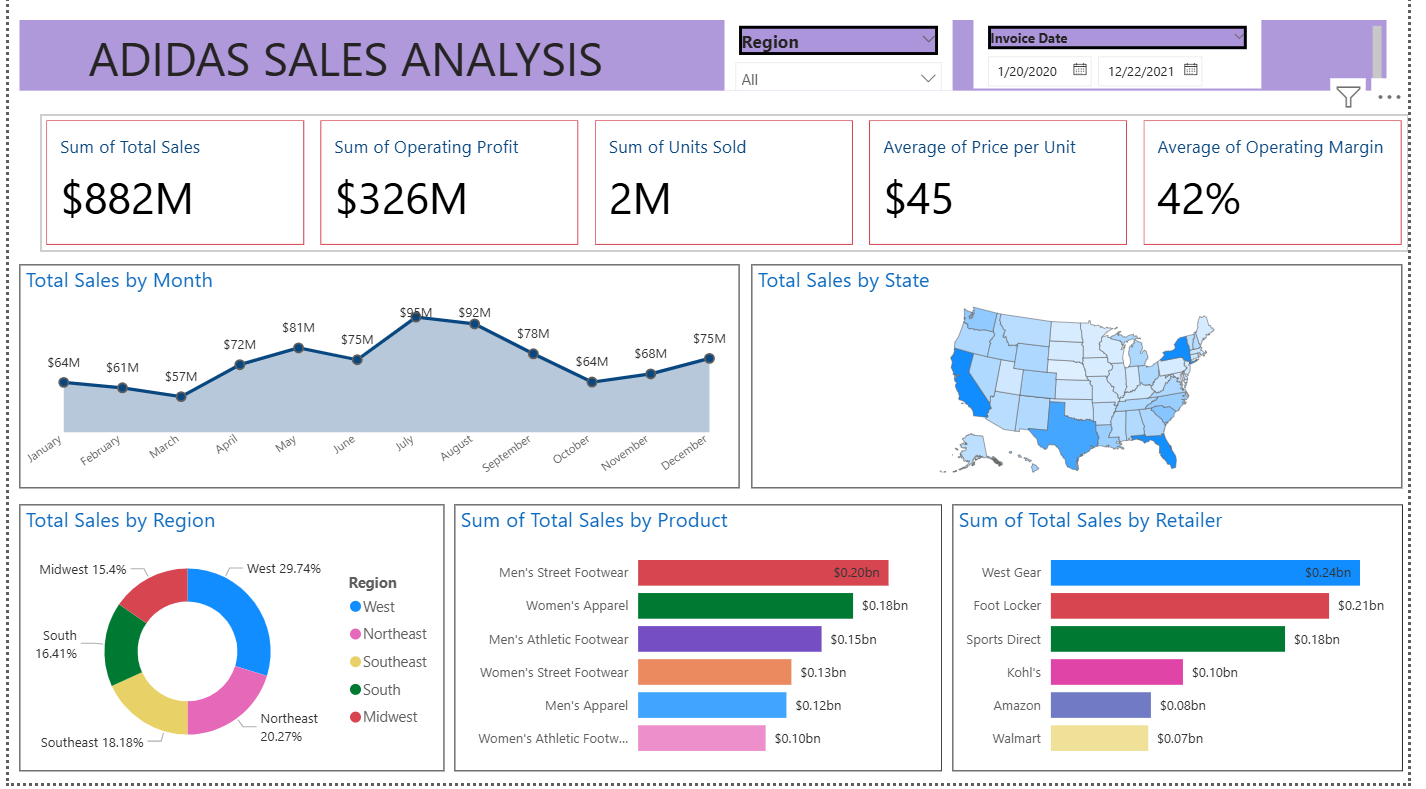

What the dashboard file says about the page in this screenshot:
{"tool":"powerbi","page":{"name":"Page 1","canvas":[1280,720],"ordinal":0},"visuals":[{"type":"textbox","box":[9.6,21.9,1250.7,64.4],"z":0},{"type":"cardVisual","fields":{"Data":["Sum(Data Sales Adidas.Total Sales)","Sum(Data Sales Adidas.Operating Profit)","Sum(Data Sales Adidas.Units Sold)","Avg(Data Sales Adidas.Price per Unit)","Avg(Data Sales Adidas.Operating Margin)"]},"box":[28.8,108.4,1251.6,124.9],"z":1000},{"type":"areaChart","title":"Total Sales by Month","fields":{"Category":["Data Sales Adidas.Invoice Date.Variation.Date Hierarchy.Month"],"Y":["Sum(Data Sales Adidas.Total Sales)"]},"box":[9.6,245.6,658.7,204.5],"z":2000},{"type":"shapeMap","title":" Total Sales by State","fields":{"Category":["Data Sales Adidas.State"],"Value":["Sum(Data Sales Adidas.Total Sales)"]},"box":[679.3,245.6,595.6,204.5],"z":3000},{"type":"donutChart","title":" Total Sales by Region","fields":{"Y":["Sum(Data Sales Adidas.Total Sales)"],"Category":["Data Sales Adidas.Region"]},"box":[9.6,465.2,388.4,244.3],"z":4000},{"type":"barChart","fields":{"Y":["Sum(Data Sales Adidas.Total Sales)"],"Category":["Data Sales Adidas.Product"]},"box":[407.6,465.2,446,244.3],"z":5000},{"type":"barChart","fields":{"Category":["Data Sales Adidas.Retailer"],"Y":["Sum(Data Sales Adidas.Total Sales)"]},"box":[863.2,465.2,411.7,244.3],"z":6000},{"type":"slicer","fields":{"Values":["Data Sales Adidas.Region"]},"box":[654.2,22.3,208.6,64.8],"z":7000},{"type":"slicer","fields":{"Values":["Data Sales Adidas.Invoice Date"]},"box":[883,22.3,263.3,62.8],"z":7001}]}

Visuals, with their boxes in screenshot pixels (x1, y1, x2, y2), scaled from the page's 1280x720 canvas onto the 1426x789 screenshot:
textbox: bbox=(11, 24, 1404, 95)
cardVisual - Sum(Data Sales Adidas.Total Sales) x Sum(Data Sales Adidas.Operating Profit): bbox=(32, 119, 1425, 256)
"Total Sales by Month" areaChart: bbox=(11, 269, 745, 493)
" Total Sales by State" shapeMap: bbox=(757, 269, 1420, 493)
" Total Sales by Region" donutChart: bbox=(11, 510, 443, 777)
barChart - Sum(Data Sales Adidas.Total Sales) x Data Sales Adidas.Product: bbox=(454, 510, 951, 777)
barChart - Data Sales Adidas.Retailer x Sum(Data Sales Adidas.Total Sales): bbox=(962, 510, 1420, 777)
slicer - Data Sales Adidas.Region: bbox=(729, 24, 961, 95)
slicer - Data Sales Adidas.Invoice Date: bbox=(984, 24, 1277, 93)
